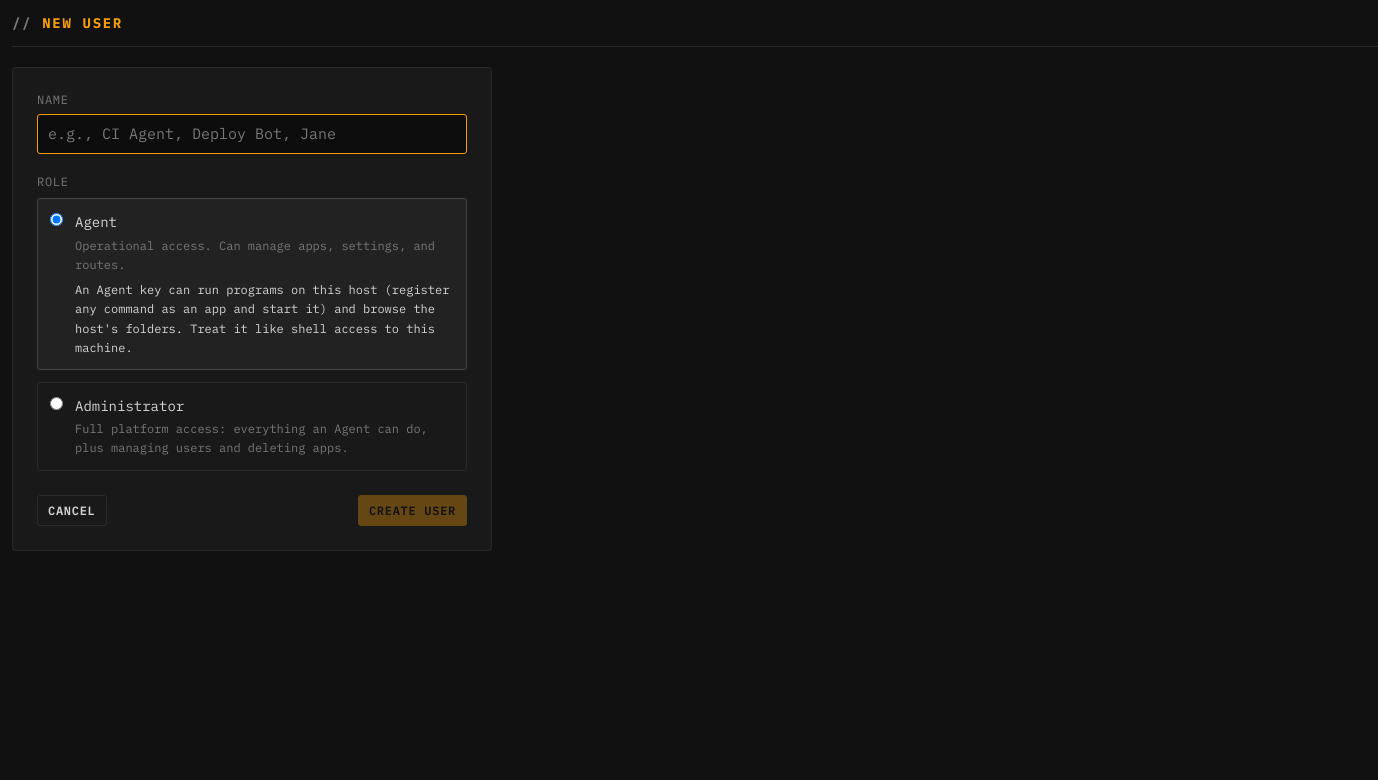
Test: UserCreatePage › Create User button enables after name is entered
This screenshot has width=1378, height=780.
In the field labelled "Name": (252, 134) [37,114,467,154], type "CI Agent"
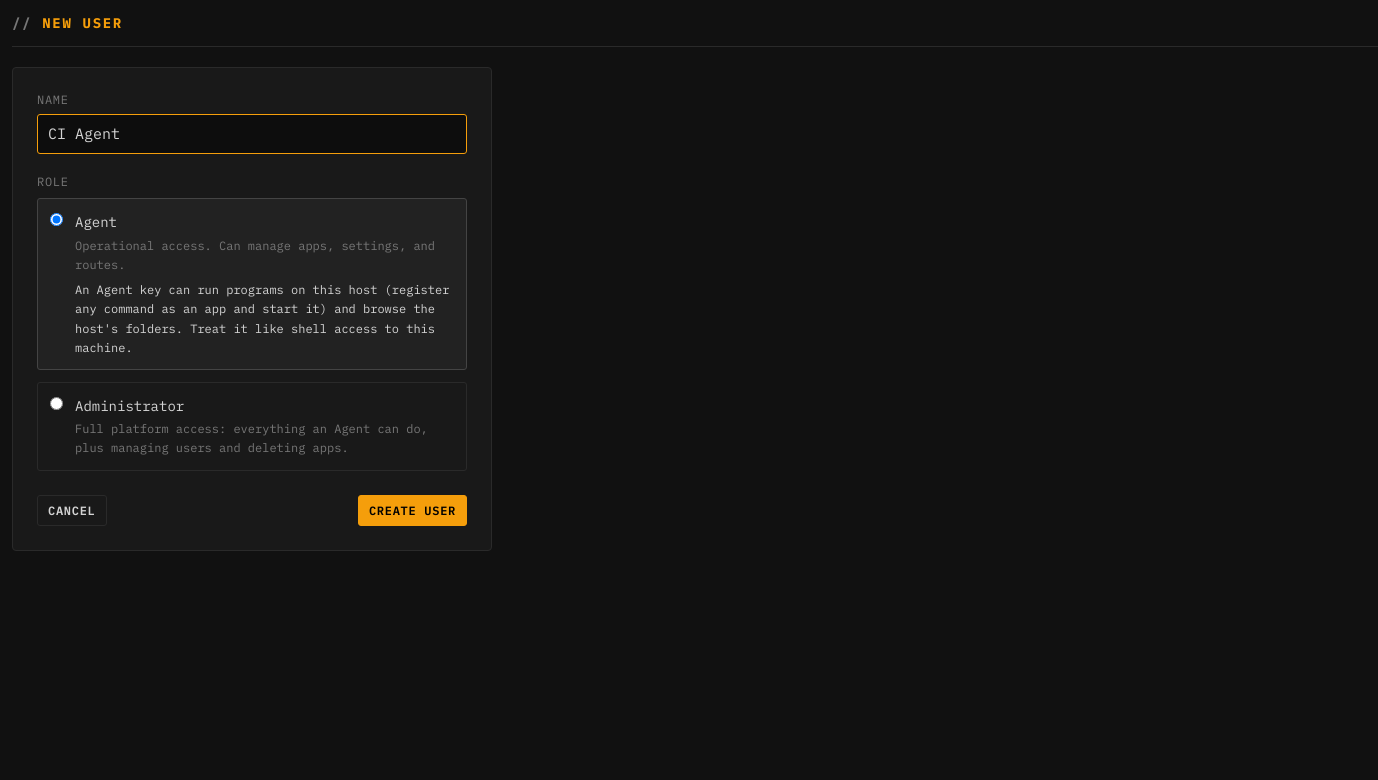
Check: the button "Create User" is enabled, box [358,495,467,526]
